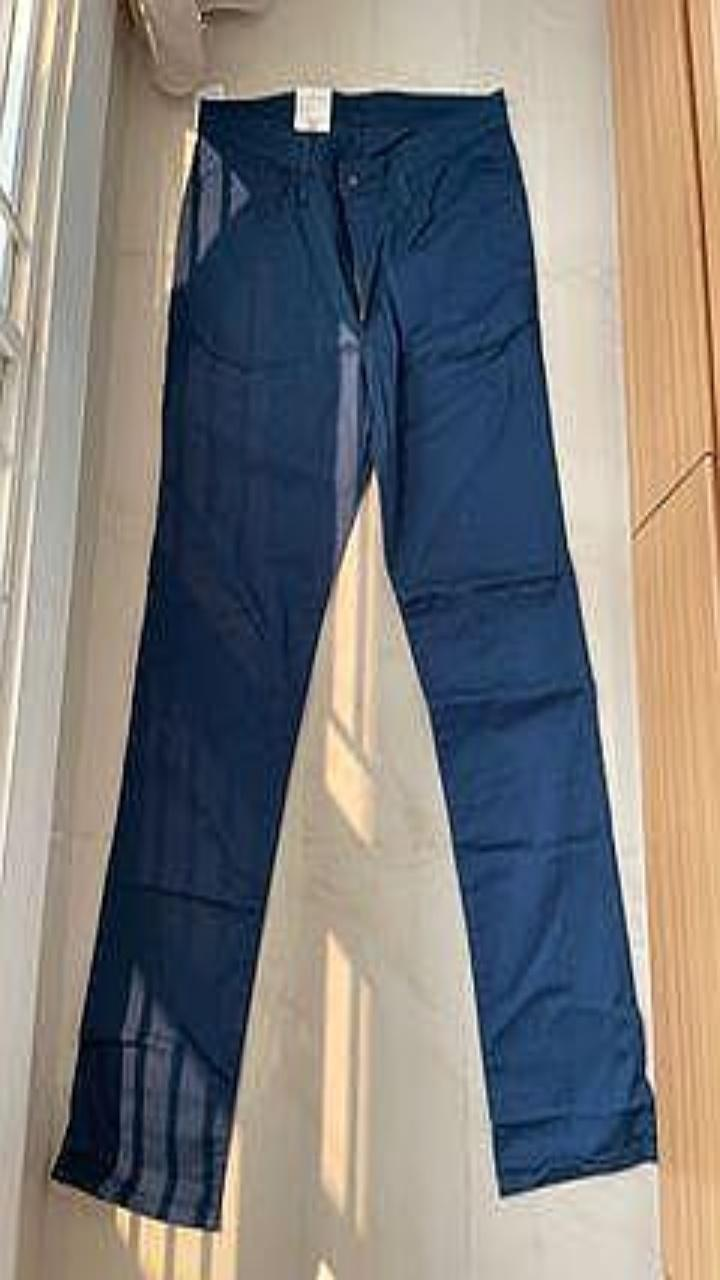Jeans: (52, 90, 655, 1228)
